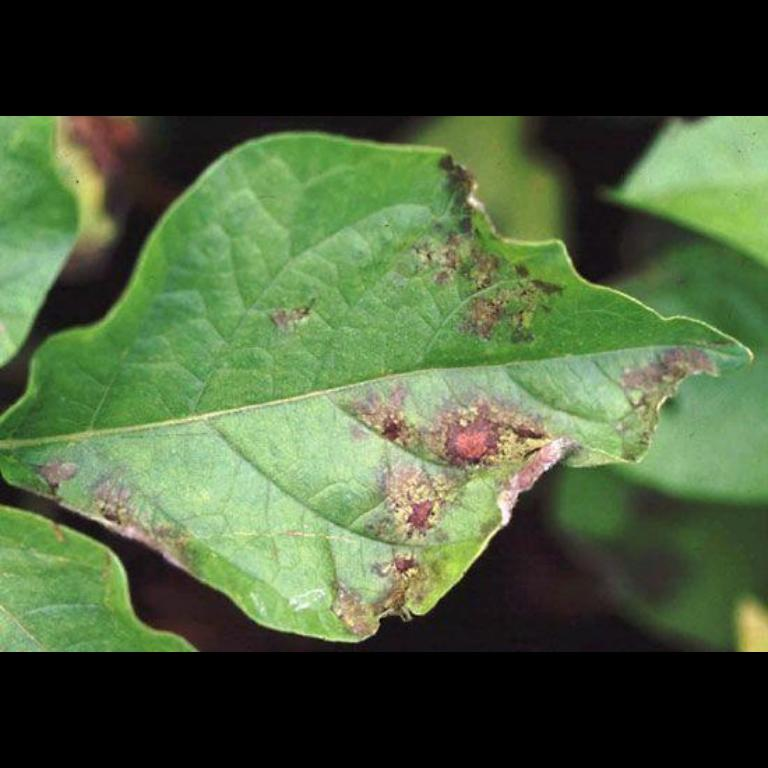blight: (356, 372, 556, 536)
